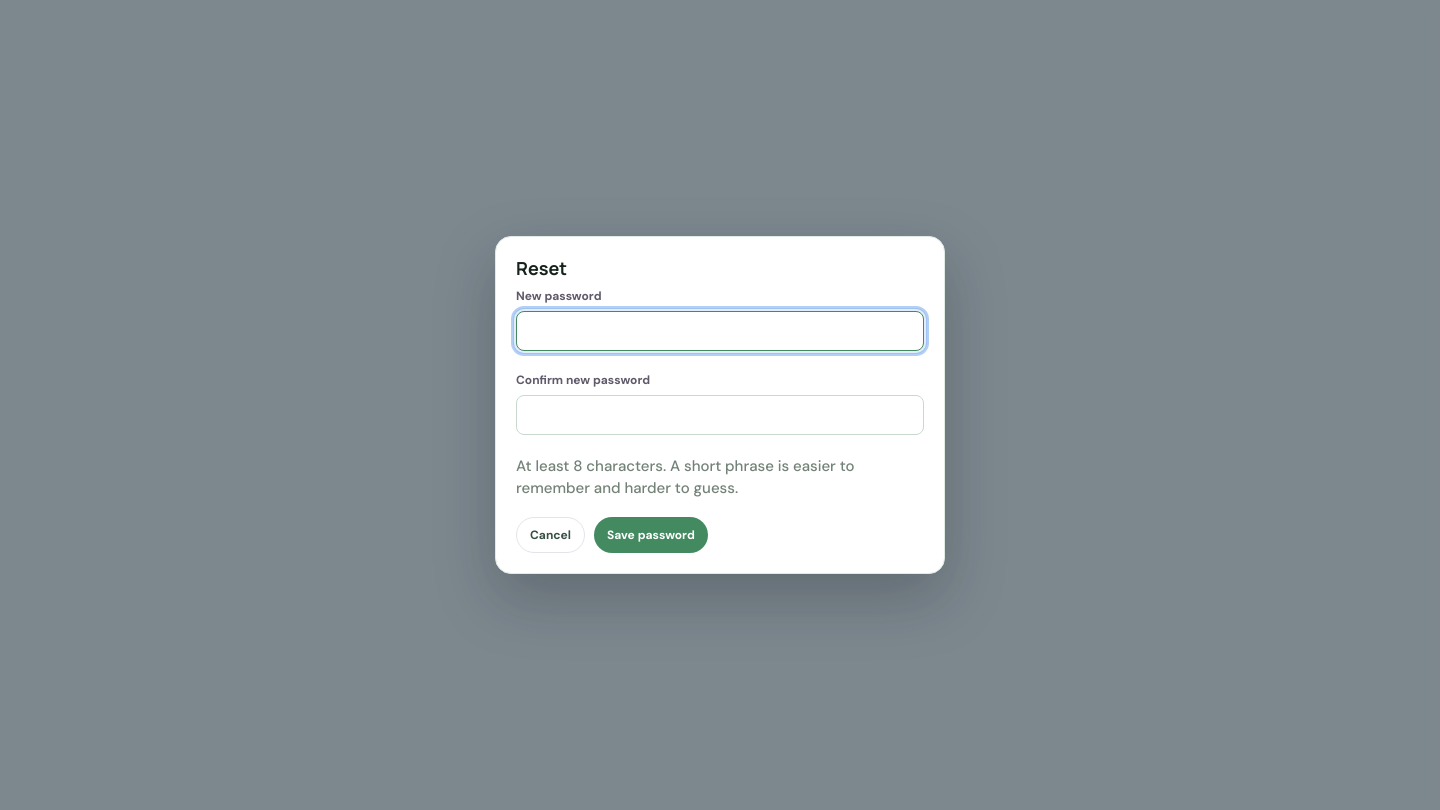
Test: checks length and that both new passwords match before sending
Step 1. Type "short" into the password field labelled "New password" → (720,331), box [516,311,924,351]
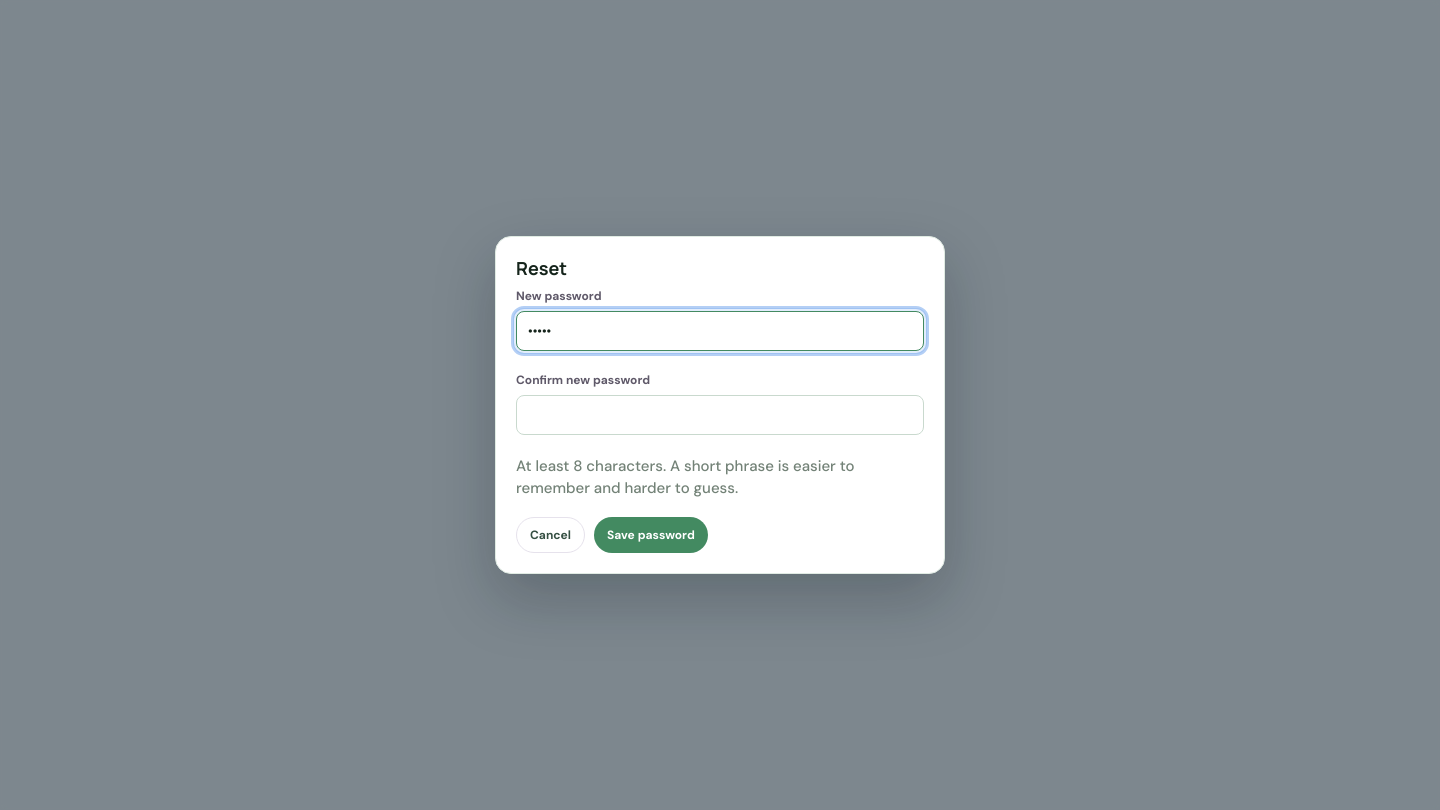
Step 2. Type "short" into the password field labelled "Confirm new password" → (720,415), box [516,395,924,435]
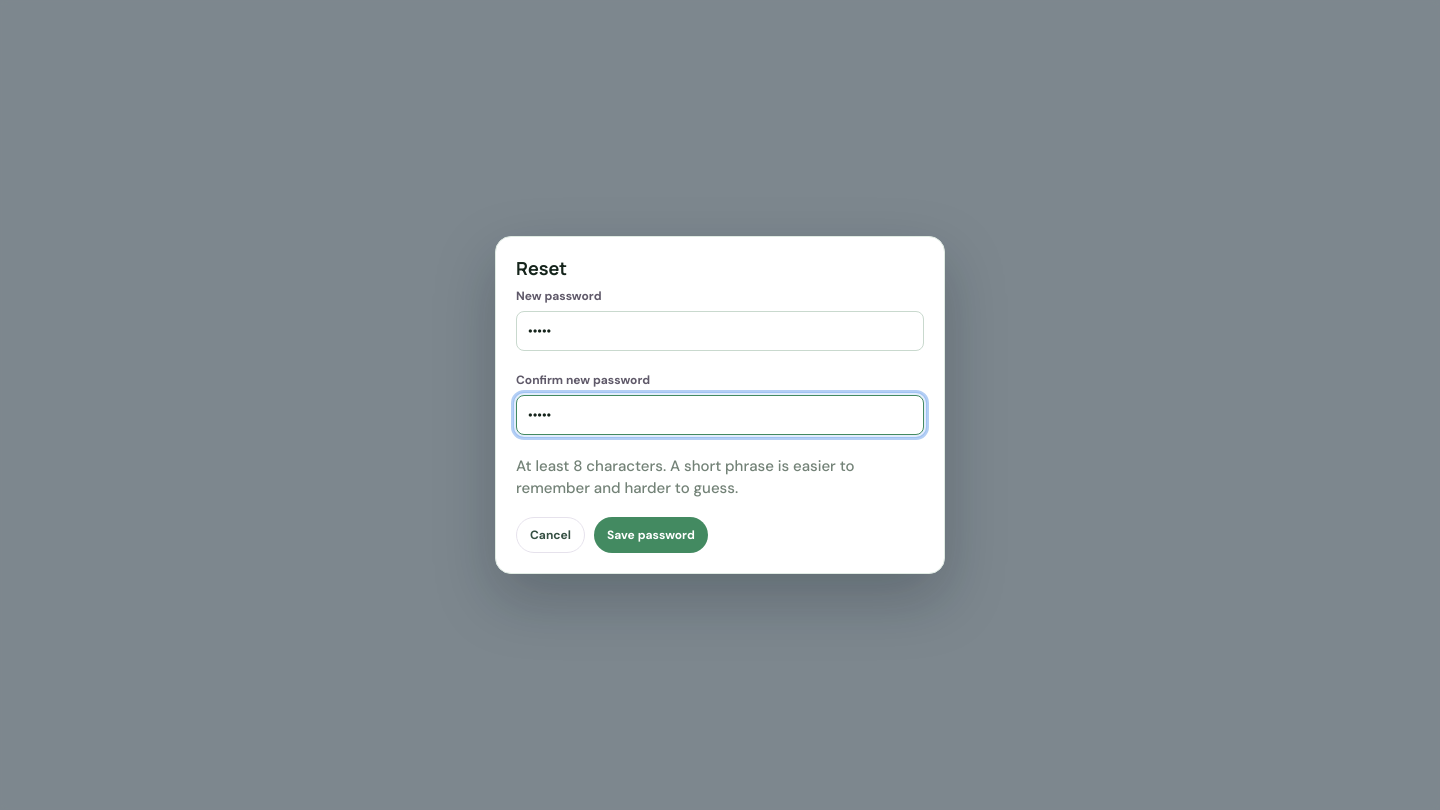
Step 3. Click the button "Save password" → (651,535), box [594,517,708,553]
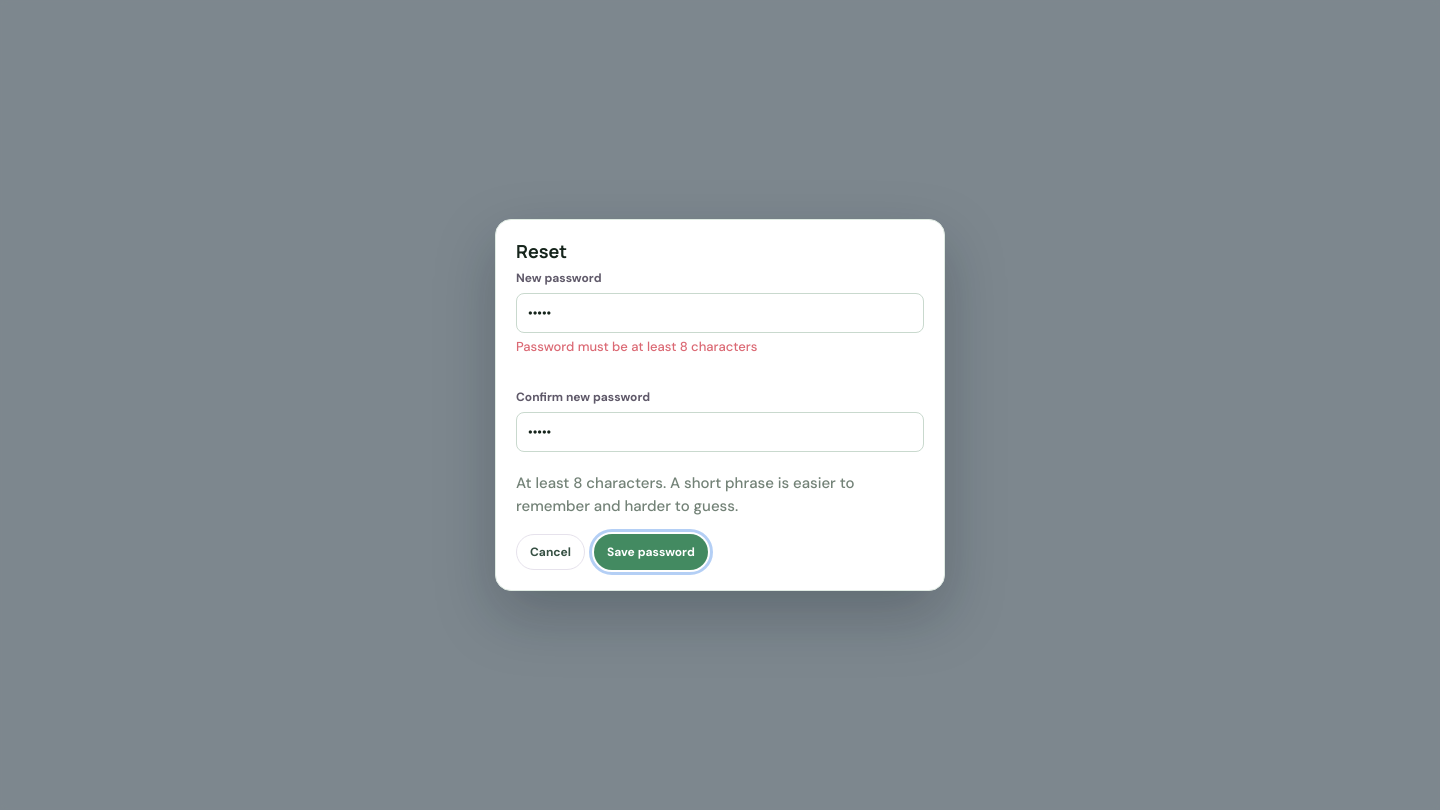
expect the text "Password must be at least 8 characters" is shown: met, box [516,338,757,355]
Step 4. Type "long-enough-1" into the password field labelled "New password" → (720,313), box [516,293,924,333]
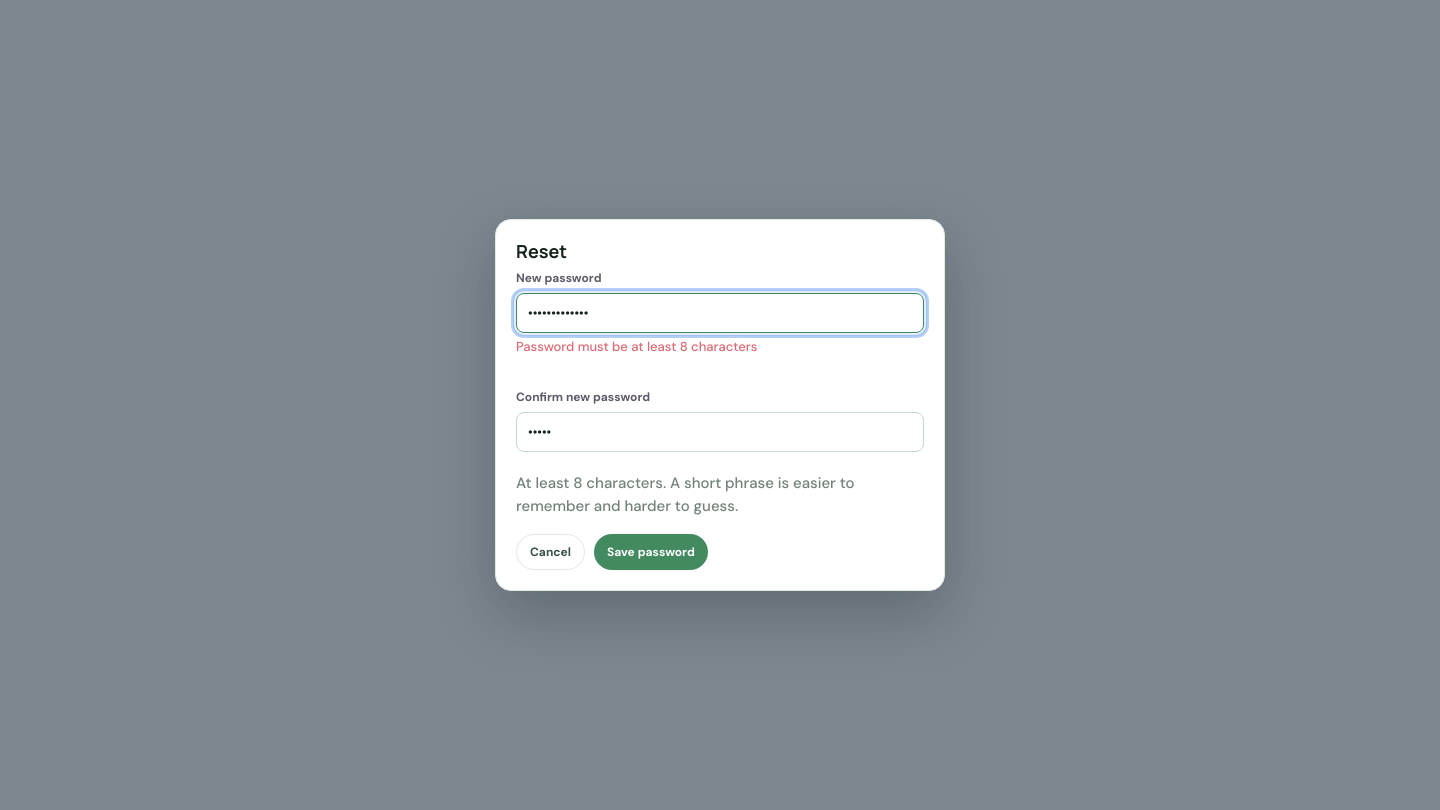
Step 5. Type "long-enough-2" into the password field labelled "Confirm new password" → (720,432), box [516,412,924,452]
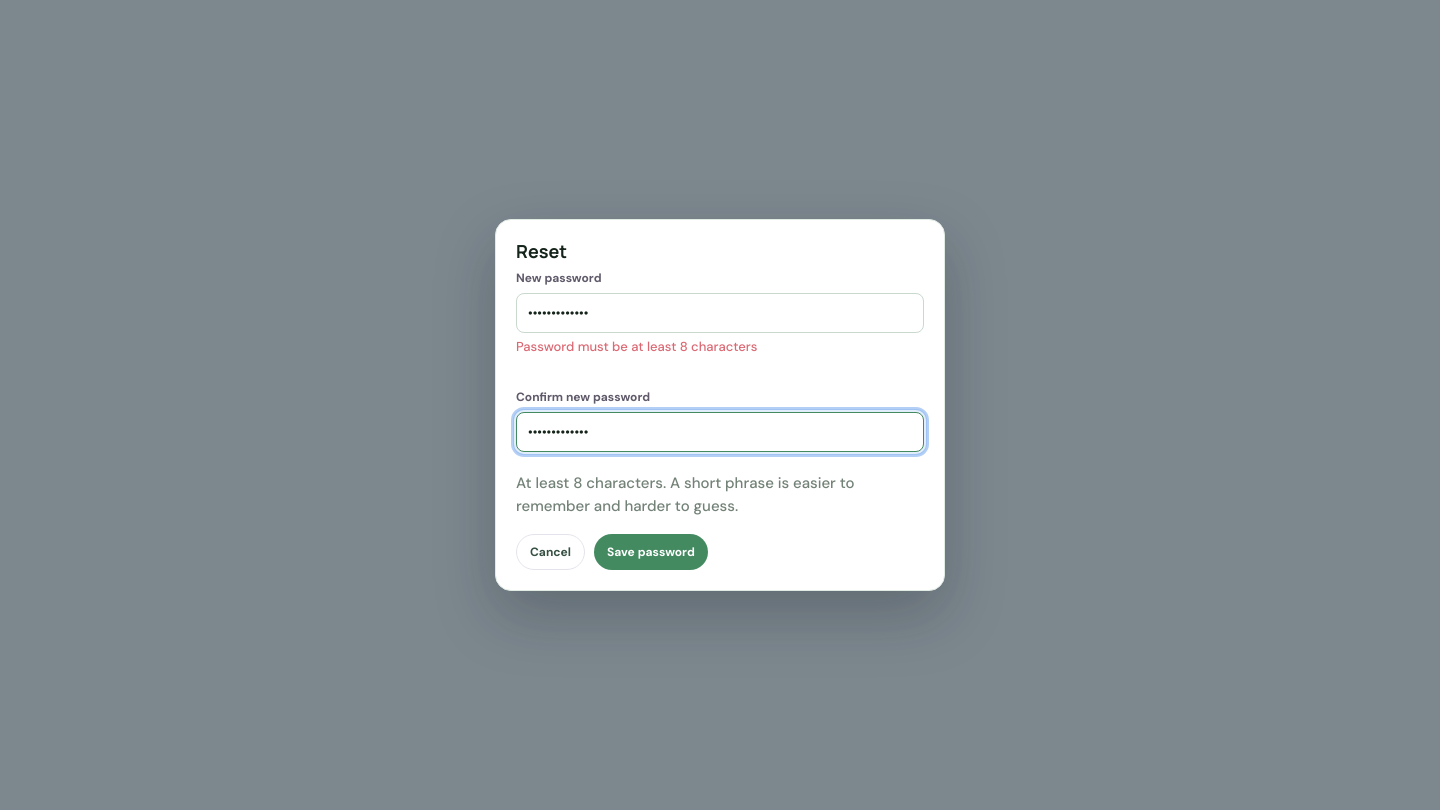
Step 6. Click the button "Save password" → (651,552), box [594,534,708,570]
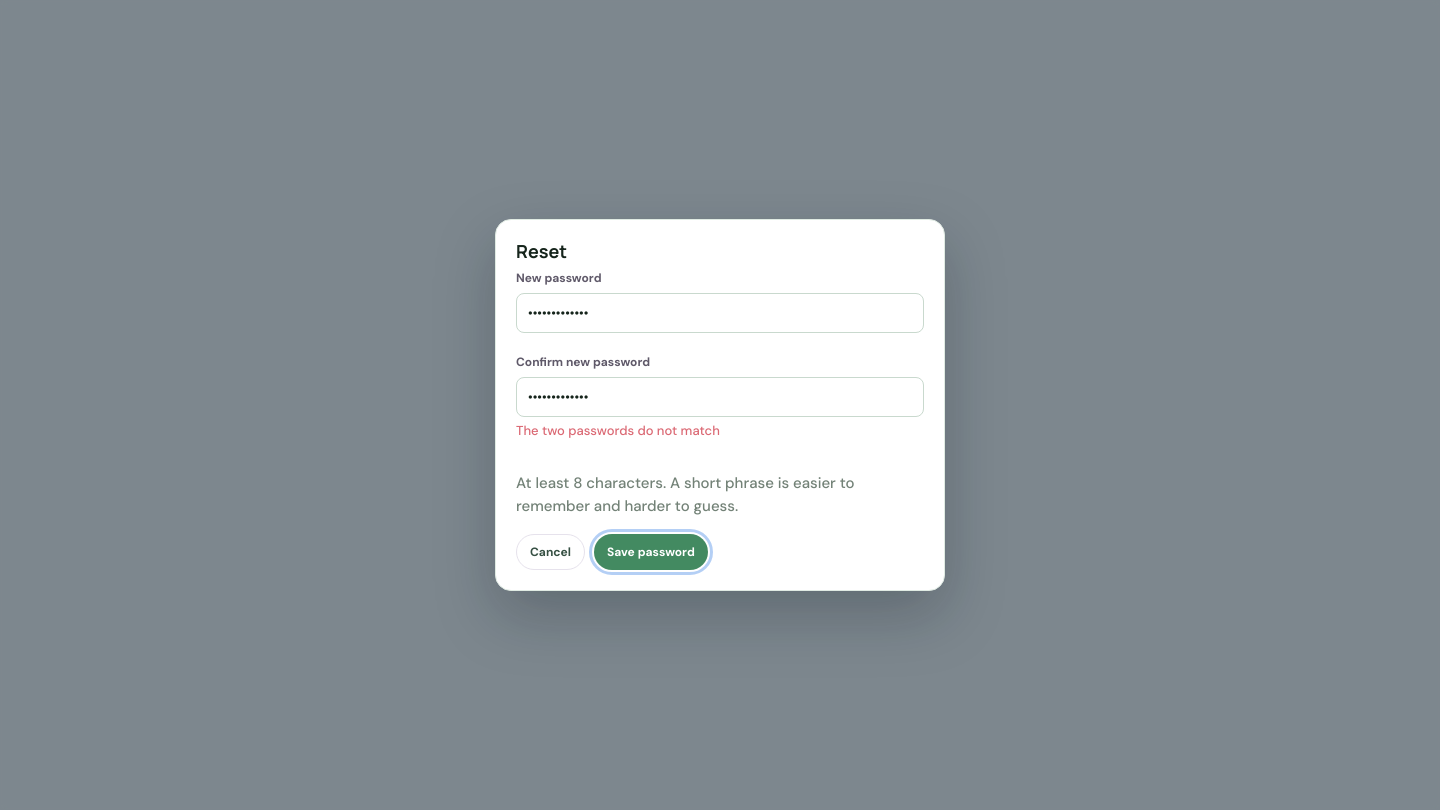
expect the text "The two passwords do not match" is shown: met, box [516,422,720,439]
